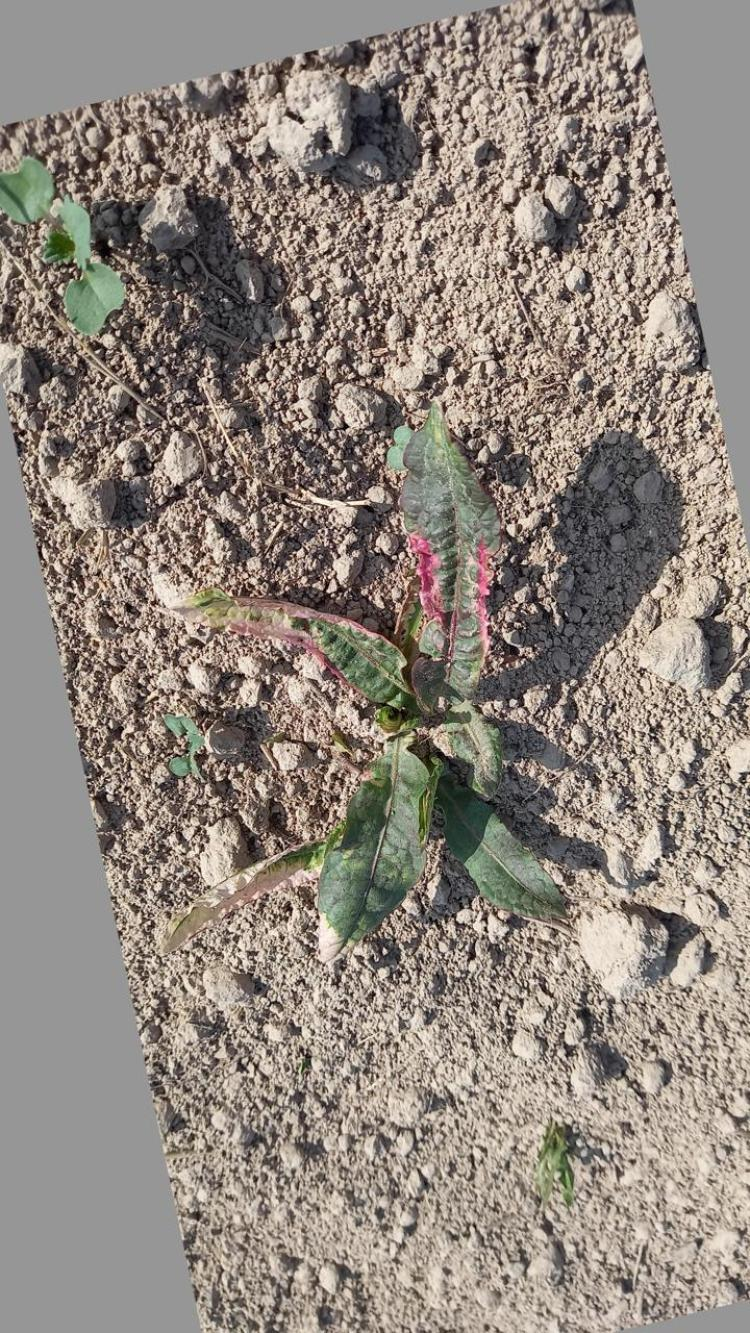zhavel: (173, 396, 577, 970)
